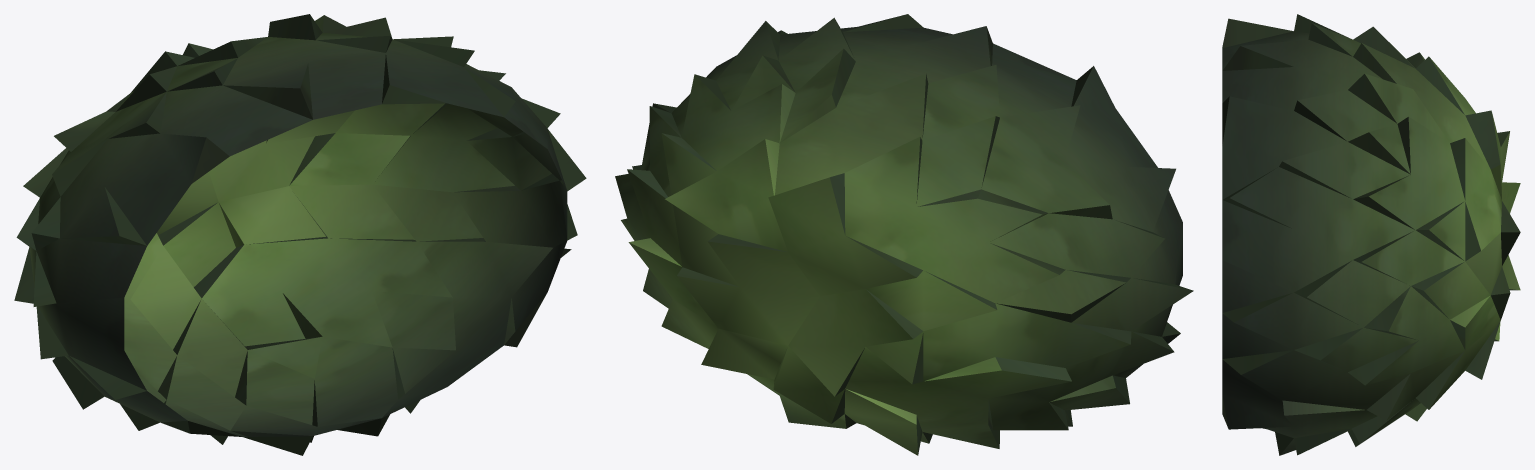
The model's file is Bush_C.fbx.
The picture shows the model from 3 angles, left to right: view 1: azimuth 30°, elevation 25°; view 2: azimuth 150°, elevation 25°; view 3: azimuth 270°, elevation 25°; orthographic projection. The views are drawn at different scales.
Parts seen in each view (by area): view 1: Bush_C; view 2: Bush_C; view 3: Bush_C.
Part boxes in pixels (x1,y1,x2,y2): Bush_C: (14, 14, 586, 455); Bush_C: (615, 14, 1193, 455); Bush_C: (1222, 14, 1520, 455).
Size of the model in its own units: 111 by 76.02 by 56.13.
